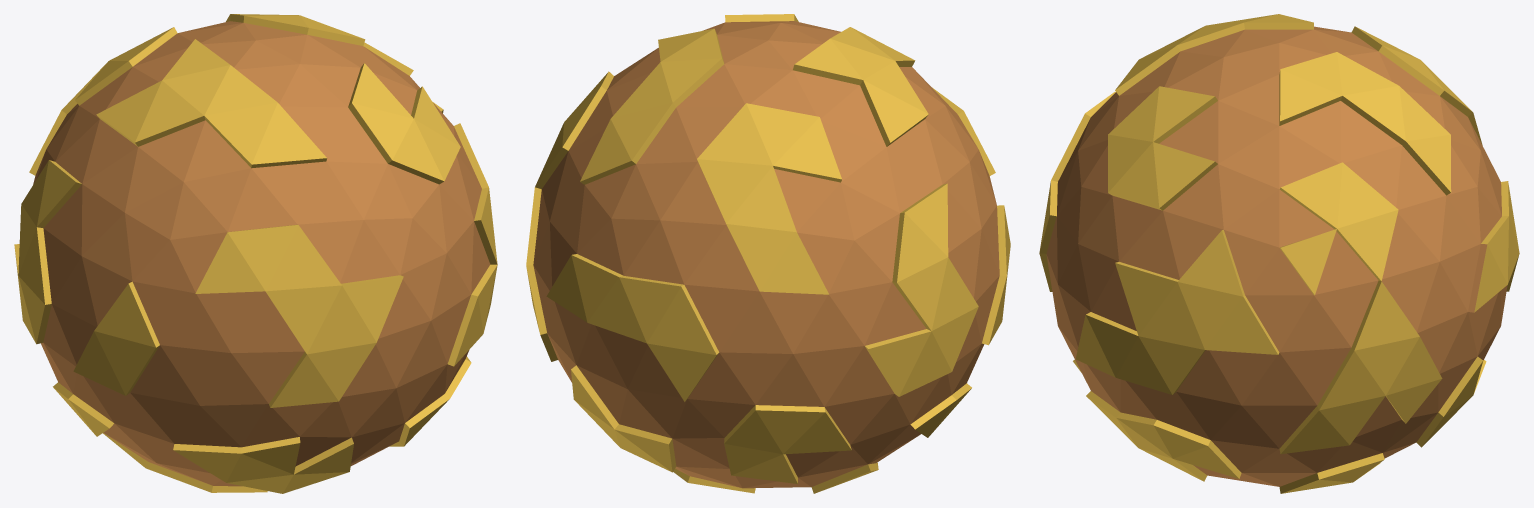
File: VenusLowPoly.fbx
3 renders of one model, left to right at view 1: azimuth 30°, elevation 25°; view 2: azimuth 150°, elevation 25°; view 3: azimuth 270°, elevation 25°, orthographic.
Parts seen in each view (by area): view 1: Icosphere; view 2: Icosphere; view 3: Icosphere.
Part boxes in pixels (x1,y1,x2,y2): Icosphere: (14,14,497,493); Icosphere: (526,14,1010,493); Icosphere: (1039,14,1519,493).
Size of the model in its own units: 206 by 203 by 206.
